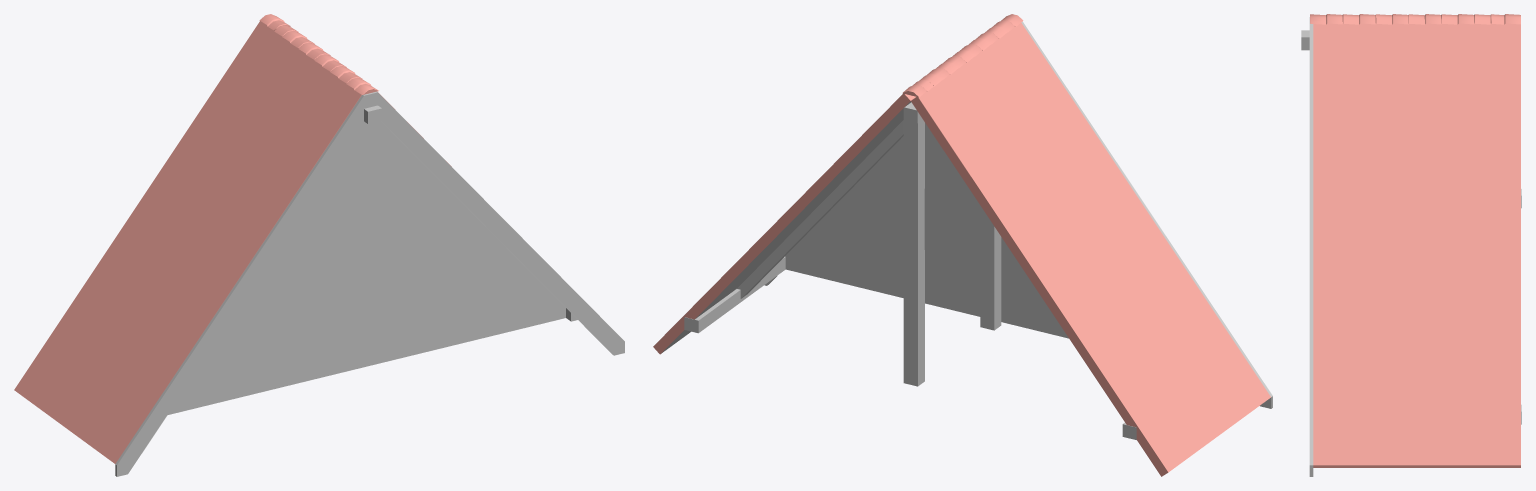
File: dfk_roof_large_front.fbx
3 renders of one model, left to right at view 1: azimuth 30°, elevation 25°; view 2: azimuth 150°, elevation 25°; view 3: azimuth 270°, elevation 25°, orthographic. The views are drawn at different scales.
Visible parts, largest first — view 1: dfk_roof_large_front, dfk_wall_roof_front02; view 2: dfk_roof_large_front, dfk_wall_roof_front02; view 3: dfk_roof_large_front.
Part boxes in pixels (x1=…): dfk_roof_large_front: x1=14, y1=14, x2=624, y2=476; dfk_wall_roof_front02: x1=168, y1=121, x2=565, y2=414; dfk_roof_large_front: x1=653, y1=14, x2=1272, y2=476; dfk_wall_roof_front02: x1=785, y1=123, x2=1068, y2=338; dfk_roof_large_front: x1=1301, y1=14, x2=1521, y2=476.
Bounding box in the file's own units: 8.55 × 5.24 × 3.13.
